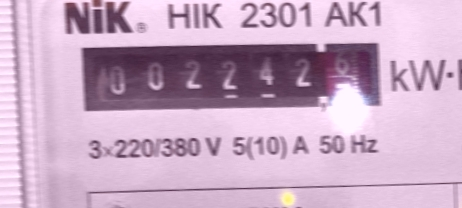0: (106, 65, 127, 100), (144, 62, 164, 95)
2: (218, 60, 238, 94), (182, 60, 202, 93), (293, 59, 311, 91)
4: (257, 57, 274, 90)
6: (332, 52, 349, 79)
screen: (70, 28, 391, 130)
